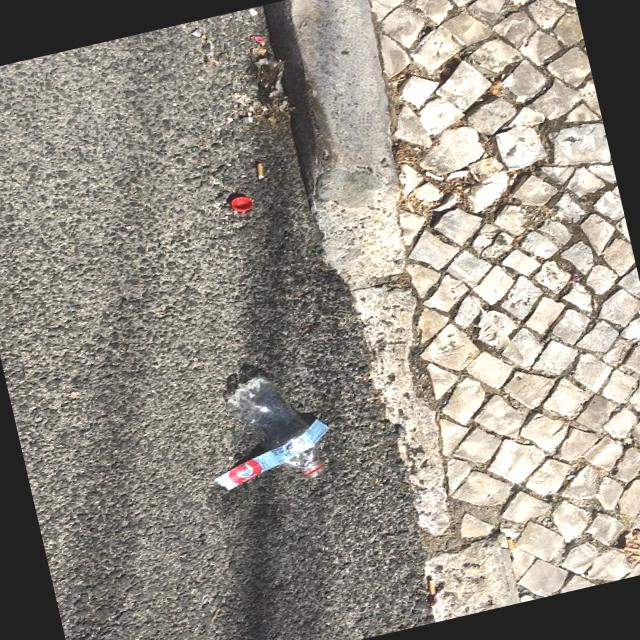Recycle: (202, 364, 340, 499), (228, 185, 263, 218)
